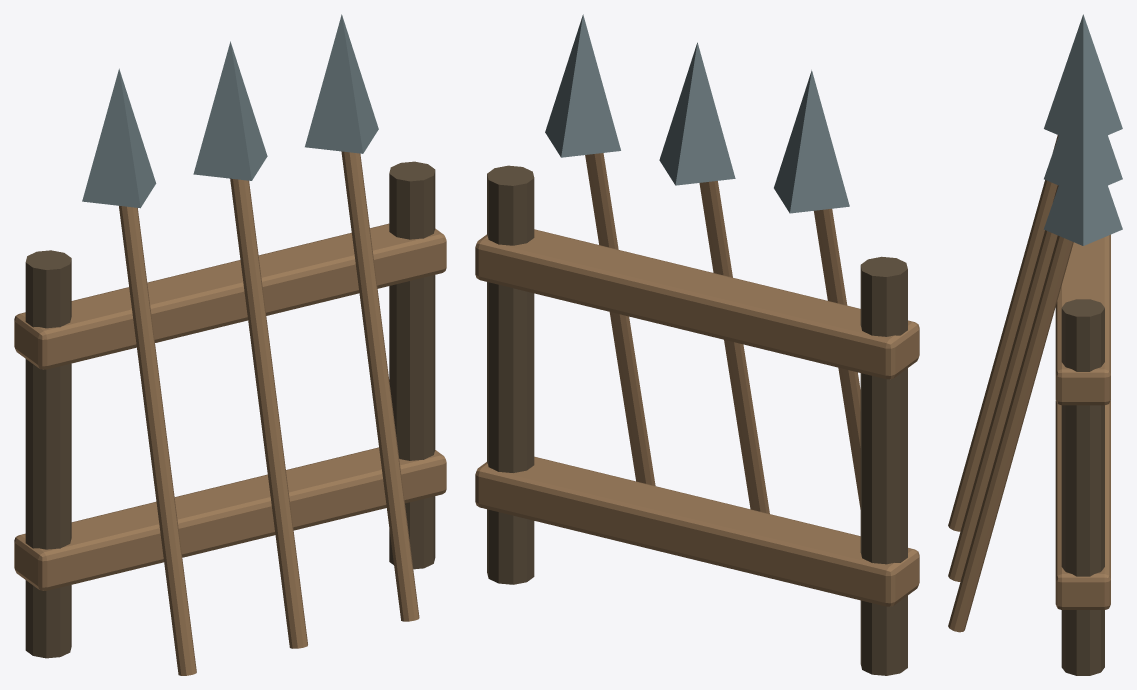
The model's file is spearRack.glb.
The picture shows the model from 3 angles, left to right: view 1: azimuth 30°, elevation 25°; view 2: azimuth 150°, elevation 25°; view 3: azimuth 270°, elevation 25°; orthographic projection. The views are drawn at different scales.
Visible parts, largest first — view 1: GEO-spearRack-144, GEO-spearRack-24, GEO-spearRack-15; view 2: GEO-spearRack-144, GEO-spearRack-24, GEO-spearRack-15; view 3: GEO-spearRack-144, GEO-spearRack-24, GEO-spearRack-15.
Part boxes in pixels (bbox=[...]): GEO-spearRack-144: bbox=[14, 151, 446, 675]; GEO-spearRack-24: bbox=[25, 161, 435, 658]; GEO-spearRack-15: bbox=[82, 14, 378, 208]; GEO-spearRack-144: bbox=[475, 153, 919, 606]; GEO-spearRack-24: bbox=[487, 165, 907, 675]; GEO-spearRack-15: bbox=[545, 14, 849, 213]; GEO-spearRack-144: bbox=[948, 135, 1110, 632]; GEO-spearRack-24: bbox=[1061, 299, 1104, 675]; GEO-spearRack-15: bbox=[1043, 14, 1122, 245].
Bounding box in the file's own units: 1.1 × 1.45 × 0.4413.
